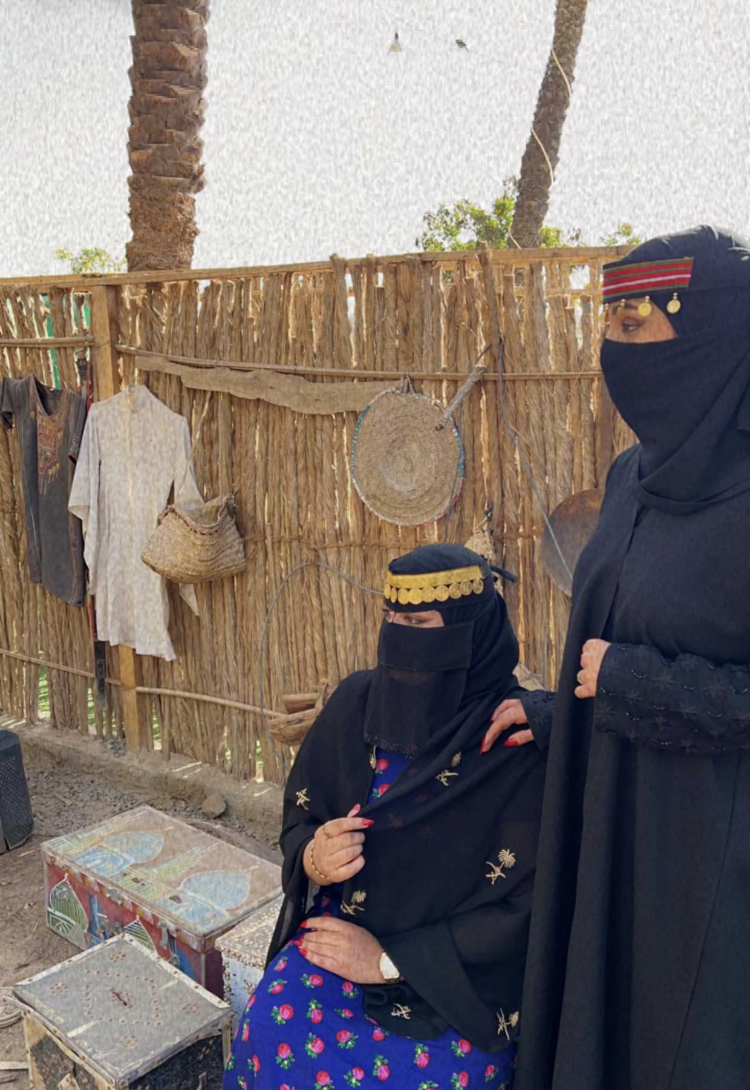Saudi_Founding_Day: (479, 220, 750, 1090), (214, 535, 527, 1090)
